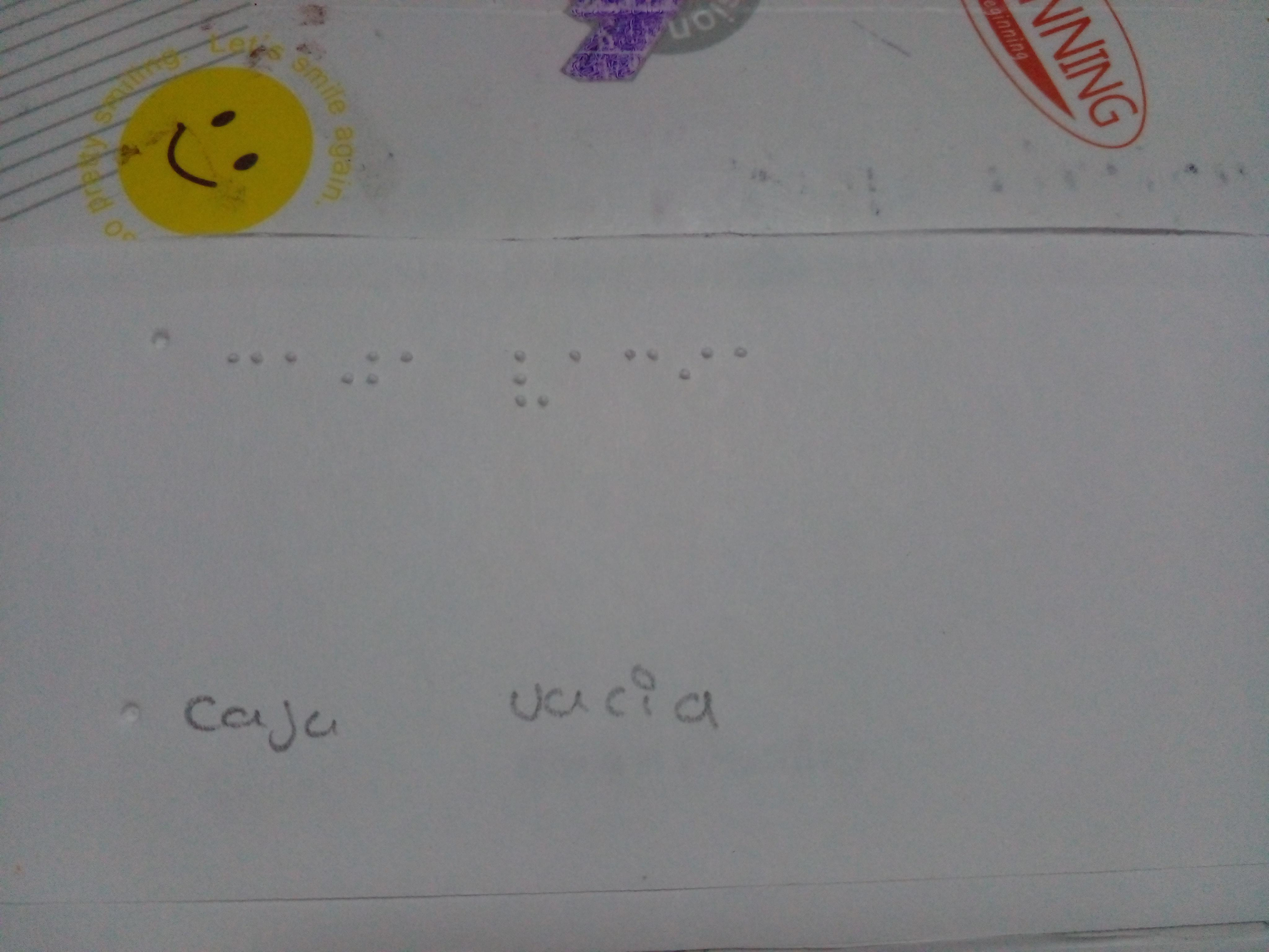a: (392, 338, 432, 389), (276, 336, 311, 389), (723, 333, 762, 378), (555, 346, 604, 381)
c: (217, 336, 276, 389), (621, 338, 671, 378)
i: (677, 333, 719, 392)
j: (328, 342, 393, 395)
v: (499, 339, 555, 425)
